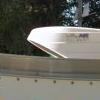Boat: (22, 17, 100, 65)
